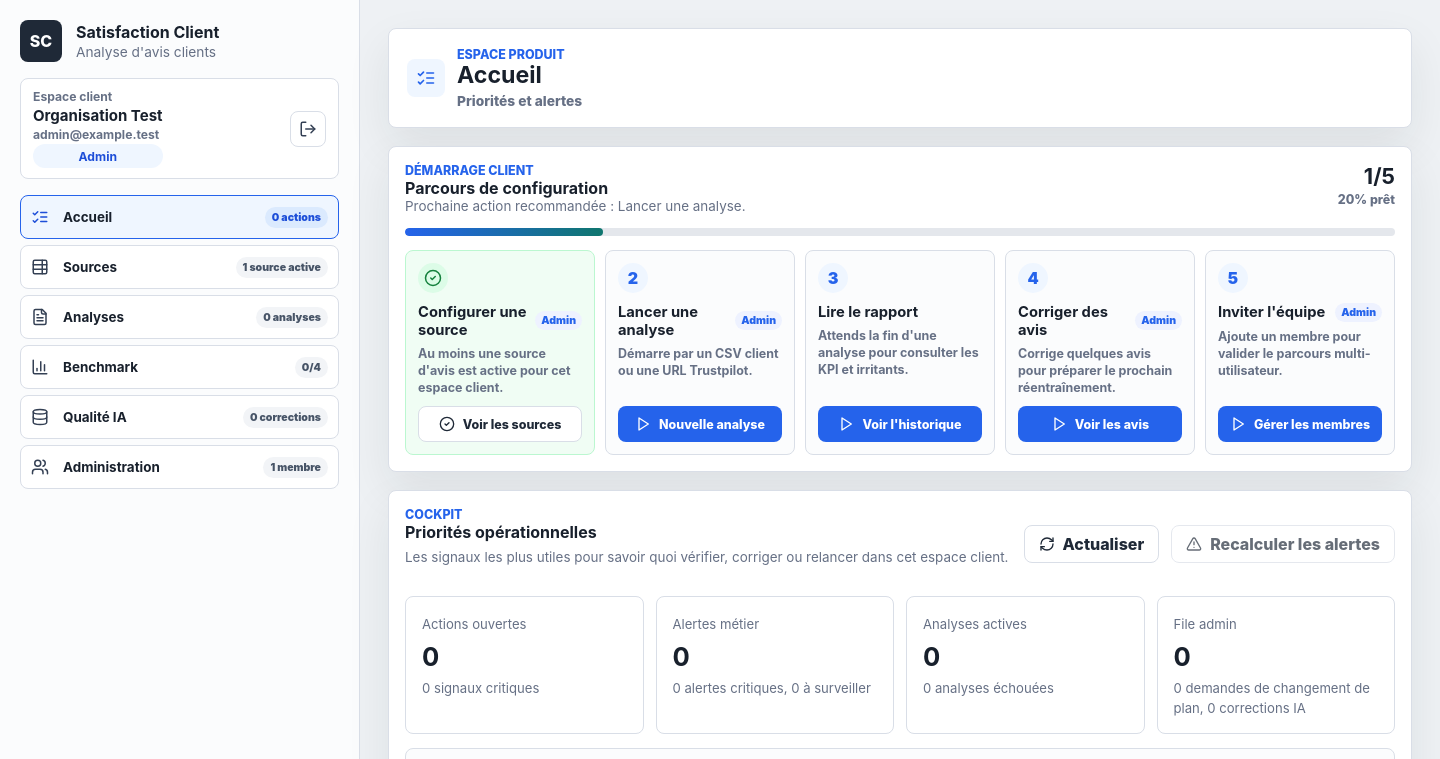
Test: App authentication and permissions › shows Trustpilot configuration immediately when the connector is not configured
Check: the text "admin@example.test" is shown, box [33, 127, 163, 142]
Click the button "Sources 1 source active".
click(90, 267)  # box [20, 245, 339, 289]
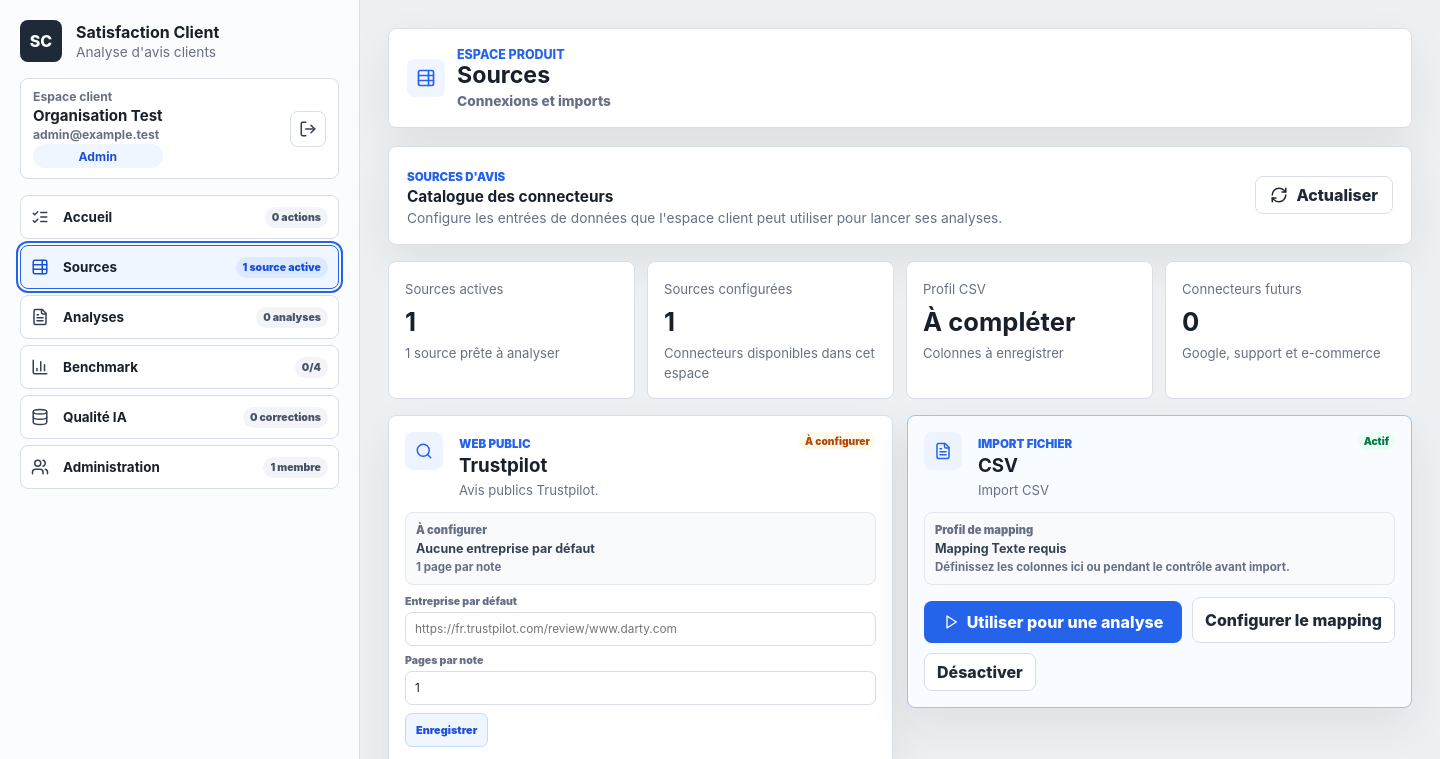
Check: the field labelled "Entreprise par défaut" is shown, box [405, 612, 876, 646]
Check: the button "Configurer le mapping" is shown, box [1192, 597, 1395, 643]
